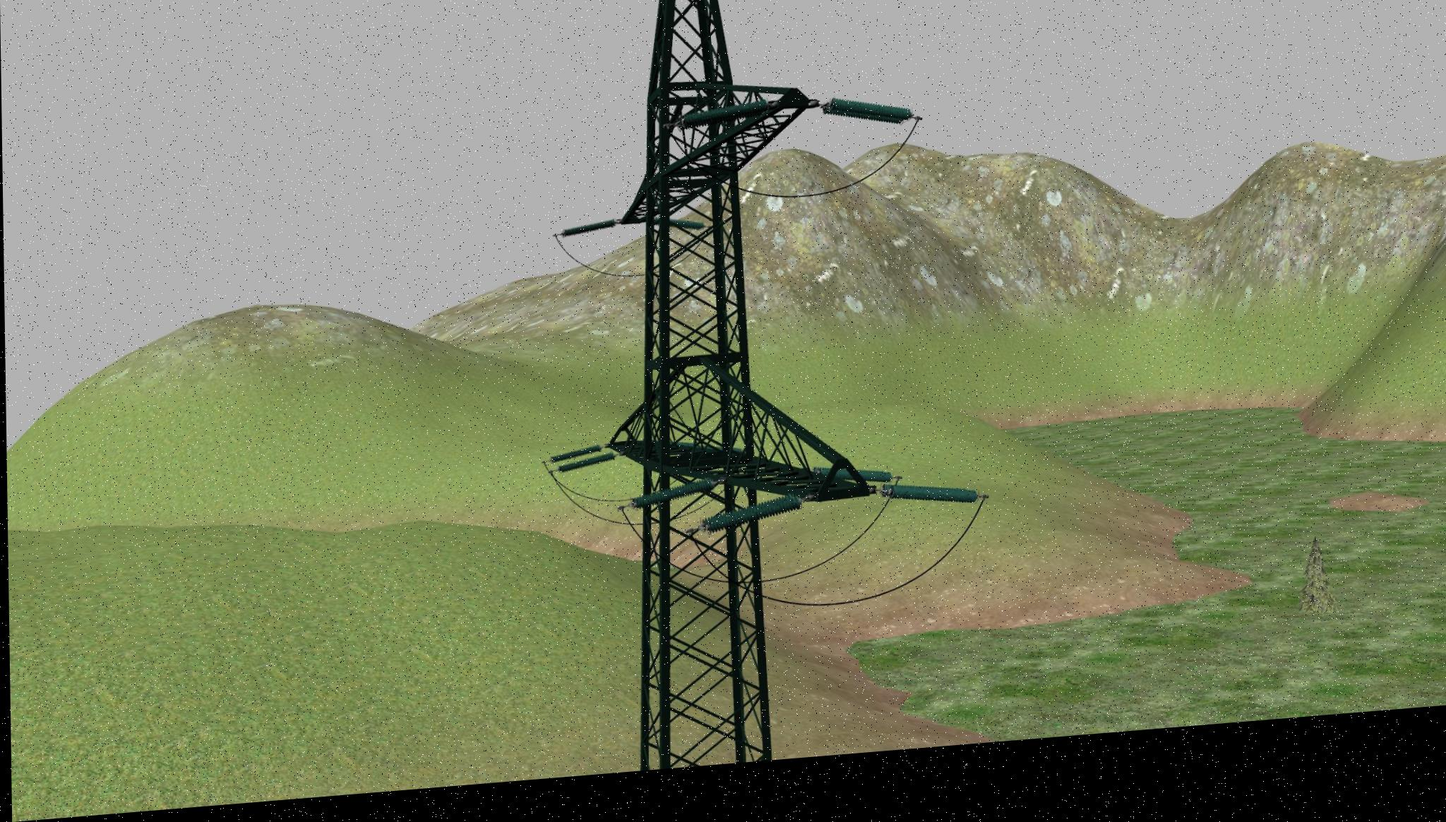tower: (595, 0, 859, 773)
